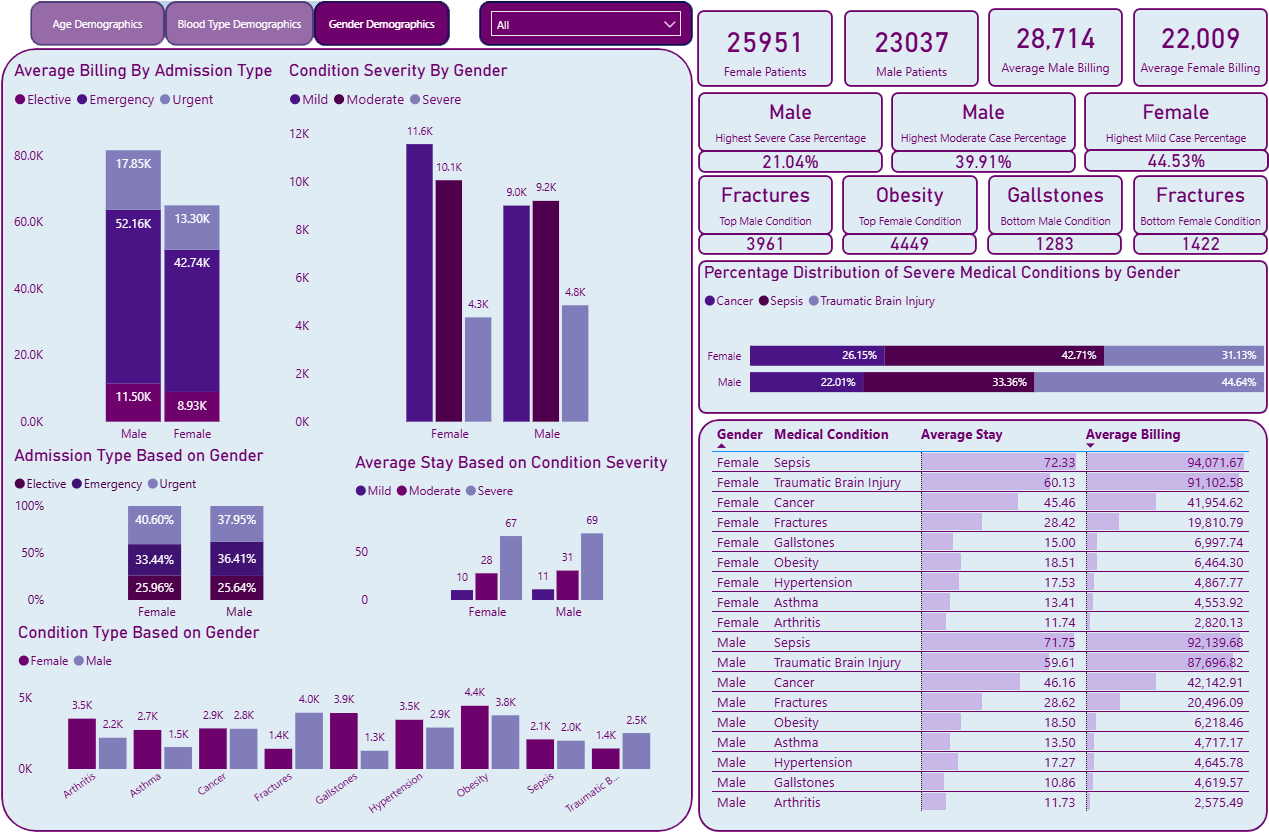

This screenshot's page, from the dashboard's own definition file:
{"tool":"powerbi","page":{"name":"Age, Gender, Blood Type","canvas":[1280,840],"ordinal":0},"visuals":[{"type":"shape","title":"BackgroundGender","box":[707.2,261.1,570,153.9],"z":2000},{"type":"shape","title":"Background Shape","box":[10,49.3,692,784],"z":3000},{"type":"shape","title":"Gender Demographics","box":[323.4,2,135.3,45],"z":7000},{"type":"shape","title":"GenderBackgroundButton","box":[323.5,2,135,45],"z":9000},{"type":"shape","title":"BloodBackgroundButton","box":[174.5,2,148.7,45],"z":10000},{"type":"card","fields":{"Values":["CountNonNull(proj healthcare_dataset.gender)"]},"box":[706,10.6,135.6,77.8],"z":16000},{"type":"card","fields":{"Values":["CountNonNull(proj healthcare_dataset.gender)"]},"box":[853.2,10.5,135.3,77.9],"z":17000},{"type":"columnChart","title":"Average Billing By Admission Type","fields":{"Category":["proj healthcare_dataset.gender"],"Y":["Avg(proj healthcare_dataset.billing_amount)"],"Series":["Healthcare_Dataset.admission_type"]},"box":[18,61.3,269.3,391.3],"z":18000},{"type":"clusteredColumnChart","title":"Condition Severity By Gender","fields":{"Category":["Gender Severity Percent.gender"],"Series":["Gender Severity Percent.condition_severity"],"Y":["Sum(Gender Severity Percent.patient_count_separate)"]},"box":[293.1,61.2,398.8,391.2],"z":19000},{"type":"shape","title":"BackgroundGender","box":[707.4,420,569.5,413.2],"z":23000},{"type":"hundredPercentStackedColumnChart","title":"Admission Type Based on Gender","fields":{"Category":["proj healthcare_dataset.gender"],"Y":["CountNonNull(proj healthcare_dataset.record_id)"],"Series":["proj healthcare_dataset.admission_type"]},"box":[18.1,445.6,337.5,185],"z":26000},{"type":"clusteredColumnChart","title":"Average Stay Based on Condition Severity","fields":{"Category":["Gender_Average_Stay_Severity.gender"],"Y":["Avg(Gender_Average_Stay_Severity.average_stay_duration)"],"Series":["Gender_Average_Stay_Severity.condition_severity"]},"box":[359.4,452.5,332.5,178.1],"z":27000},{"type":"clusteredColumnChart","title":"Condition Type Based on Gender","fields":{"Category":["proj healthcare_dataset.medical_condition"],"Y":["CountNonNull(proj healthcare_dataset.record_id)"],"Series":["proj healthcare_dataset.gender"]},"box":[22.2,623.3,668.9,202.2],"z":28000},{"type":"tableEx","title":"GenderTable","fields":{"Values":["Gender_Average_Stay.gender","Gender_Average_Stay.medical_condition","Sum(Gender_Average_Stay.average_stay_duration)","Sum(Gender_Average_Stay.average_billing_amount)"]},"box":[714.7,420,558.7,405.3],"z":29000},{"type":"shape","title":"AgeBackgroundButton","box":[39,2,135,45],"z":30000},{"type":"slicer","title":"GenderSlicer","fields":{"Values":["Gender_Dimension_Table.gender"]},"box":[487.6,2,214.1,45],"z":33000},{"type":"card","title":"TopMaleCondition","fields":{"Values":["Healthcare_Dataset.Most_Common_Condition_Male"]},"box":[706.7,176.1,135,60],"z":62000},{"type":"card","title":"TopFemaleCondition","fields":{"Values":["Healthcare_Dataset.Most_Common_Condition_Female"]},"box":[851.5,176.3,135.3,60],"z":63000},{"type":"card","title":"GenderSeverePercent","fields":{"Values":["Gender_Severity_Percentage.Highest_Severe_Percentage_Gender"]},"box":[706.9,93.2,185.3,60],"z":64000},{"type":"card","title":"GenderModeratePercent","fields":{"Values":["Gender_Severity_Percentage.Highest_Moderate_Percentage_Gender"]},"box":[899.7,93.2,185.3,60],"z":65000},{"type":"card","title":"GenderMildPercent","fields":{"Values":["Gender_Severity_Percentage.Highest_Mild_Percentage_Gender"]},"box":[1092.5,93.2,184.7,60],"z":66000},{"type":"card","title":"GenderCard","fields":{"Values":["Healthcare_Dataset.Count_Most_Common_Condition_Male"]},"box":[706.7,233.9,135,21.7],"z":67000},{"type":"card","title":"GenderCard","fields":{"Values":["Healthcare_Dataset.Count_Most_Common_Condition_Female"]},"box":[851.1,233.9,135,21.7],"z":68000},{"type":"card","title":"GenderCard","fields":{"Values":["Gender_Severity_Percentage.Highest_Mild_Percentage_Amount_Gender"]},"box":[1092.5,150,185,23.1],"z":69000},{"type":"card","title":"GenderCard","fields":{"Values":["Gender_Severity_Percentage.Highest_Moderate_Percentage_Amount_Gender"]},"box":[900,150.6,185,23.1],"z":70000},{"type":"card","title":"GenderCard","fields":{"Values":["Gender_Severity_Percentage.Highest_Severe_Percentage_Amount_Gender"]},"box":[706.8,150.5,185.3,23.2],"z":71000},{"type":"hundredPercentStackedBarChart","title":"Percentage Distribution of Severe Medical Conditions by Gender","fields":{"Category":["Healthcare_Dataset.gender"],"Y":["CountNonNull(Healthcare_Dataset.condition_severity)"],"Series":["Healthcare_Dataset.medical_condition"]},"box":[707.5,263.3,570,154.2],"z":72000},{"type":"card","title":"AverageMaleBilling","fields":{"Values":["Healthcare_Dataset.AvgBilling_Male"]},"box":[997.1,8.9,135.3,78.9],"z":73000},{"type":"card","title":"AverageFemaleBilling","fields":{"Values":["Healthcare_Dataset.AvgBilling_Female"]},"box":[1141.5,9,135.5,79],"z":74000},{"type":"card","title":"BottomMaleCondition","fields":{"Values":["Healthcare_Dataset.Least_Common_Condition_Male"]},"box":[996.6,176.3,135.3,60],"z":75000},{"type":"card","title":"BottomFemaleCondition","fields":{"Values":["Healthcare_Dataset.Least_Common_Condition_Female"]},"box":[1141.7,176.1,135.6,60],"z":76000},{"type":"card","title":"GenderCard","fields":{"Values":["Healthcare_Dataset.Count_Least_Common_Condition_Male"]},"box":[996,233.9,135,21.7],"z":77000},{"type":"card","title":"GenderCard","fields":{"Values":["Healthcare_Dataset.Count_Least_Common_Condition_Female"]},"box":[1141.7,233.9,135.6,21.7],"z":78000}]}

Visuals, with their boxes in screenshot pixels (x1, y1, x2, y2), scaled from the page's 1280x840 canvas onto the 1269x833 screenshot:
"BackgroundGender" shape: select_region(701, 259, 1266, 412)
"Background Shape" shape: select_region(10, 49, 696, 826)
"Gender Demographics" shape: select_region(321, 2, 455, 47)
"GenderBackgroundButton" shape: select_region(321, 2, 455, 47)
"BloodBackgroundButton" shape: select_region(173, 2, 320, 47)
card - CountNonNull(proj healthcare_dataset.gender): select_region(700, 11, 834, 88)
card - CountNonNull(proj healthcare_dataset.gender): select_region(846, 10, 980, 88)
"Average Billing By Admission Type" columnChart: select_region(18, 61, 285, 449)
"Condition Severity By Gender" clusteredColumnChart: select_region(291, 61, 686, 449)
"BackgroundGender" shape: select_region(701, 416, 1266, 826)
"Admission Type Based on Gender" hundredPercentStackedColumnChart: select_region(18, 442, 353, 625)
"Average Stay Based on Condition Severity" clusteredColumnChart: select_region(356, 449, 686, 625)
"Condition Type Based on Gender" clusteredColumnChart: select_region(22, 618, 685, 819)
"GenderTable" tableEx: select_region(709, 416, 1262, 818)
"AgeBackgroundButton" shape: select_region(39, 2, 173, 47)
"GenderSlicer" slicer: select_region(483, 2, 696, 47)
"TopMaleCondition" card: select_region(701, 175, 834, 234)
"TopFemaleCondition" card: select_region(844, 175, 978, 234)
"GenderSeverePercent" card: select_region(701, 92, 885, 152)
"GenderModeratePercent" card: select_region(892, 92, 1076, 152)
"GenderMildPercent" card: select_region(1083, 92, 1266, 152)
"GenderCard" card: select_region(701, 232, 834, 253)
"GenderCard" card: select_region(844, 232, 978, 253)
"GenderCard" card: select_region(1083, 149, 1267, 172)
"GenderCard" card: select_region(892, 149, 1076, 172)
"GenderCard" card: select_region(701, 149, 884, 172)
"Percentage Distribution of Severe Medical Conditions by Gender" hundredPercentStackedBarChart: select_region(701, 261, 1267, 414)
"AverageMaleBilling" card: select_region(989, 9, 1123, 87)
"AverageFemaleBilling" card: select_region(1132, 9, 1266, 87)
"BottomMaleCondition" card: select_region(988, 175, 1122, 234)
"BottomFemaleCondition" card: select_region(1132, 175, 1266, 234)
"GenderCard" card: select_region(987, 232, 1121, 253)
"GenderCard" card: select_region(1132, 232, 1266, 253)
